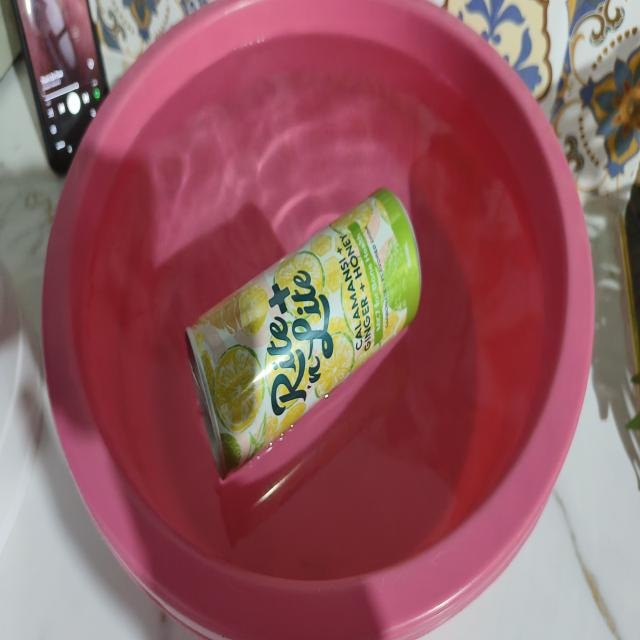Aluminum Can: (172, 150, 450, 506)
